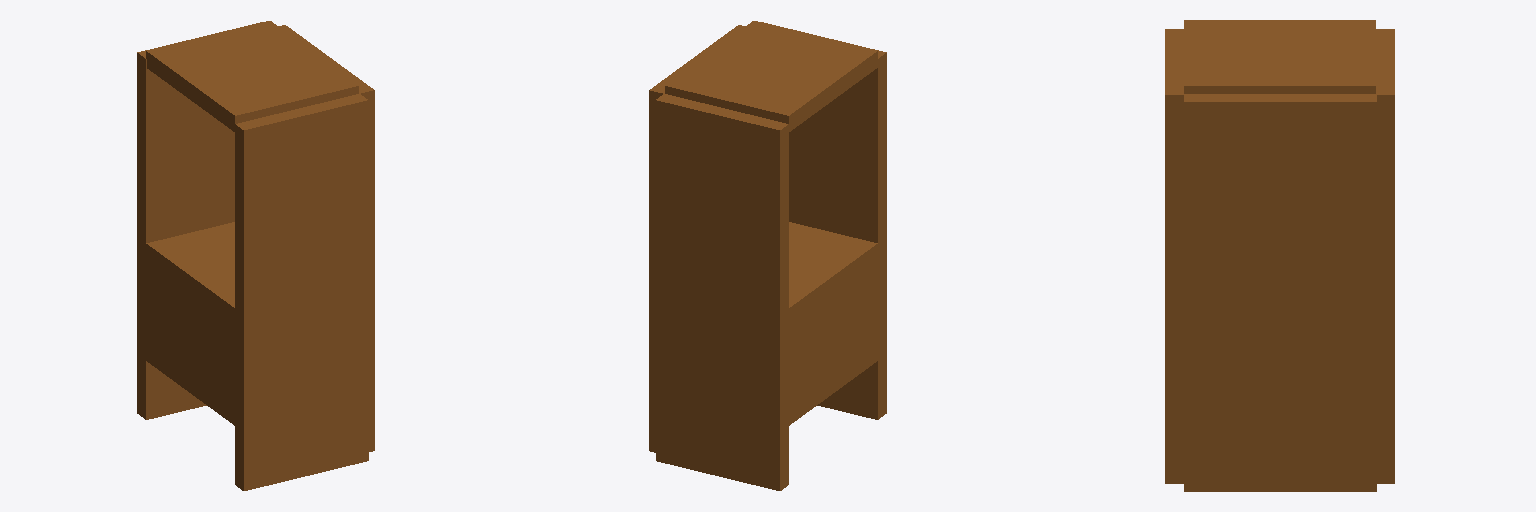
URDF robot description (dummy):
<?xml version="1.0"?>
<robot name="dummy">
  <link name="bottom_wall">
    <visual>
      <origin xyz="0.0 0.0 0.10575026978076796" rpy="0 0 0"/>
      <geometry>
        <mesh filename="bottom_wall.obj" scale="1 1 1"/>
      </geometry>
      <material name="brown">
        <color rgba="0.6 0.4 0.2 1.0"/>
      </material>
    </visual>
    <collision>
      <origin xyz="0.0 0.0 0.10575026978076796" rpy="0 0 0"/>
      <geometry>
        <mesh filename="bottom_wall.obj" scale="1 1 1"/>
      </geometry>
    </collision>
  </link>

  <link name="left_wall">
    <visual>
      <origin xyz="0.0 -0.1569091220011643 0.0" rpy="0 0 0"/>
      <geometry>
        <mesh filename="vertical_wall.obj" scale="1 1 1"/>
      </geometry>
      <material name="brown">
        <color rgba="0.6 0.4 0.2 1.0"/>
      </material>
    </visual>
    <collision>
      <origin xyz="0.0 -0.1569091220011643 0.0" rpy="0 0 0"/>
      <geometry>
        <mesh filename="vertical_wall.obj" scale="1 1 1"/>
      </geometry>
    </collision>
  </link>

  <link name="right_wall">
    <visual>
      <origin xyz="0.0 0.1569091220011643 0.0" rpy="0 0 0"/>
      <geometry>
        <mesh filename="vertical_wall.obj" scale="1 1 1"/>
      </geometry>
      <material name="brown">
        <color rgba="0.6 0.4 0.2 1.0"/>
      </material>
    </visual>
    <collision>
      <origin xyz="0.0 0.1569091220011643 0.0" rpy="0 0 0"/>
      <geometry>
        <mesh filename="vertical_wall.obj" scale="1 1 1"/>
      </geometry>
    </collision>
  </link>

  <link name="back_wall">
    <visual>
      <origin xyz="0.12880675515303946 0.0 0.0" rpy="0 0 0"/>
      <geometry>
        <mesh filename="back_wall.obj" scale="1 1 1"/>
      </geometry>
      <material name="brown">
        <color rgba="0.6 0.4 0.2 1.0"/>
      </material>
    </visual>
    <collision>
      <origin xyz="0.12880675515303946 0.0 0.0" rpy="0 0 0"/>
      <geometry>
        <mesh filename="back_wall.obj" scale="1 1 1"/>
      </geometry>
    </collision>
  </link>

  <link name="top_wall">
    <visual>
      <origin xyz="0.0 0.0 0.6260912729080081" rpy="0 0 0"/>
      <geometry>
        <mesh filename="top_wall.obj" scale="1 1 1"/>
      </geometry>
      <material name="brown">
        <color rgba="0.6 0.4 0.2 1.0"/>
      </material>
    </visual>
    <collision>
      <origin xyz="0.0 0.0 0.6260912729080081" rpy="0 0 0"/>
      <geometry>
        <mesh filename="top_wall.obj" scale="1 1 1"/>
      </geometry>
    </collision>
  </link>

  <joint name="left_wall_joint" type="fixed">
    <origin xyz="0 0 0" rpy="0 0 0"/>
    <parent link="bottom_wall"/>
    <child link="left_wall"/>
  </joint>

  <joint name="right_wall_joint" type="fixed">
    <origin xyz="0 0 0" rpy="0 0 0"/>
    <parent link="bottom_wall"/>
    <child link="right_wall"/>
  </joint>

  <joint name="back_wall_joint" type="fixed">
    <origin xyz="0 0 0" rpy="0 0 0"/>
    <parent link="bottom_wall"/>
    <child link="back_wall"/>
  </joint>

  <joint name="top_wall_joint" type="fixed">
    <origin xyz="0 0 0" rpy="0 0 0"/>
    <parent link="bottom_wall"/>
    <child link="top_wall"/>
  </joint>

</robot>

--- Render facts (derived) ---
The picture shows the robot from 3 angles, left to right: view 1: azimuth 30°, elevation 25°; view 2: azimuth 150°, elevation 25°; view 3: azimuth 270°, elevation 25°; orthographic projection.
Robot: dummy — 5 links, 4 joints (4 fixed); root link bottom_wall; default pose: every joint at zero.
Links seen in each view (by area): view 1: left_wall, right_wall, bottom_wall, top_wall, back_wall; view 2: right_wall, left_wall, bottom_wall, top_wall, back_wall; view 3: back_wall, top_wall, left_wall, right_wall.
Boxes of the visible links, left/top/right/bottom form: left_wall: left=235, top=94, right=368, bottom=490; right_wall: left=137, top=22, right=261, bottom=419; bottom_wall: left=146, top=222, right=234, bottom=425; top_wall: left=146, top=21, right=358, bottom=131; back_wall: left=279, top=25, right=374, bottom=451; right_wall: left=656, top=94, right=788, bottom=490; left_wall: left=762, top=22, right=886, bottom=419; bottom_wall: left=789, top=222, right=877, bottom=425; top_wall: left=665, top=21, right=877, bottom=131; back_wall: left=649, top=25, right=745, bottom=452; back_wall: left=1184, top=94, right=1376, bottom=491; top_wall: left=1184, top=20, right=1375, bottom=93; left_wall: left=1165, top=29, right=1183, bottom=483; right_wall: left=1376, top=29, right=1394, bottom=483.
Size in the robot's own frame: 0.26 by 0.3434 by 0.6562 metres.
Meshes: 4 distinct files referenced, 5 mesh visuals loaded (4 OBJ).
